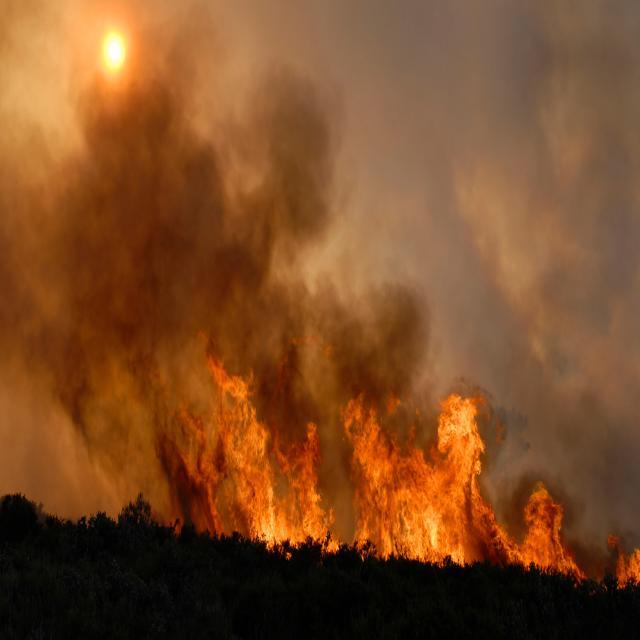Fire: (212, 368, 638, 594)
Smoke: (0, 9, 640, 361)
